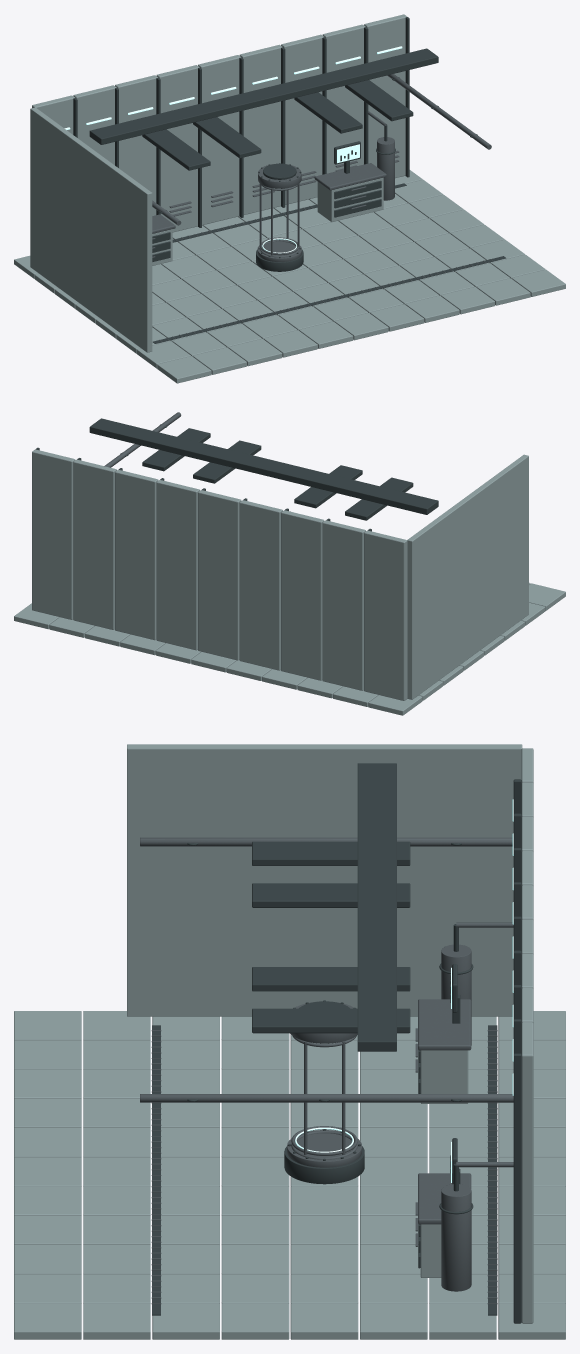
The model's file is ContainmentLaboratory.fbx.
3 views of the same model, one above another, from view 1: azimuth 30°, elevation 25°; view 2: azimuth 150°, elevation 25°; view 3: azimuth 270°, elevation 25° (orthographic). The views are drawn at different scales.
Parts seen in each view (by area): view 1: CinemaPaint_Mesh, CinemaDark_Mesh, CinemaSteel_Mesh, CinemaGlow_Mesh; view 2: CinemaPaint_Mesh, CinemaDark_Mesh, CinemaSteel_Mesh; view 3: CinemaPaint_Mesh, CinemaDark_Mesh, CinemaSteel_Mesh, CinemaGlow_Mesh.
Part boxes in pixels (x1=…): CinemaPaint_Mesh: x1=14, y1=14, x2=565, y2=383; CinemaDark_Mesh: x1=73, y1=17, x2=506, y2=343; CinemaSteel_Mesh: x1=152, y1=74, x2=492, y2=341; CinemaGlow_Mesh: x1=64, y1=46, x2=402, y2=253; CinemaPaint_Mesh: x1=14, y1=449, x2=565, y2=715; CinemaDark_Mesh: x1=35, y1=418, x2=438, y2=531; CinemaSteel_Mesh: x1=104, y1=412, x2=181, y2=467; CinemaPaint_Mesh: x1=14, y1=744, x2=565, y2=1339; CinemaDark_Mesh: x1=152, y1=763, x2=521, y2=1323; CinemaSteel_Mesh: x1=140, y1=837, x2=513, y2=1303; CinemaGlow_Mesh: x1=295, y1=799, x2=513, y2=1182.
Size of the model in its own units: 11.53 by 4.66 by 8.38.
